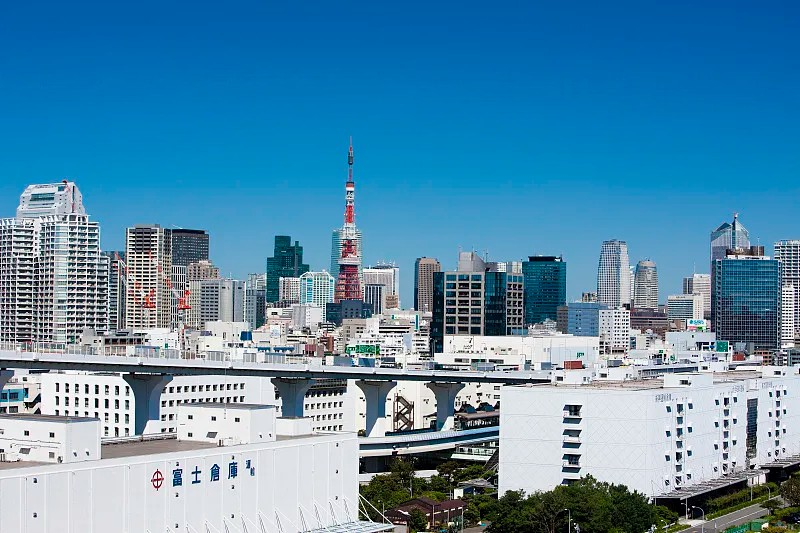Tokyo: (337, 135, 364, 299)
